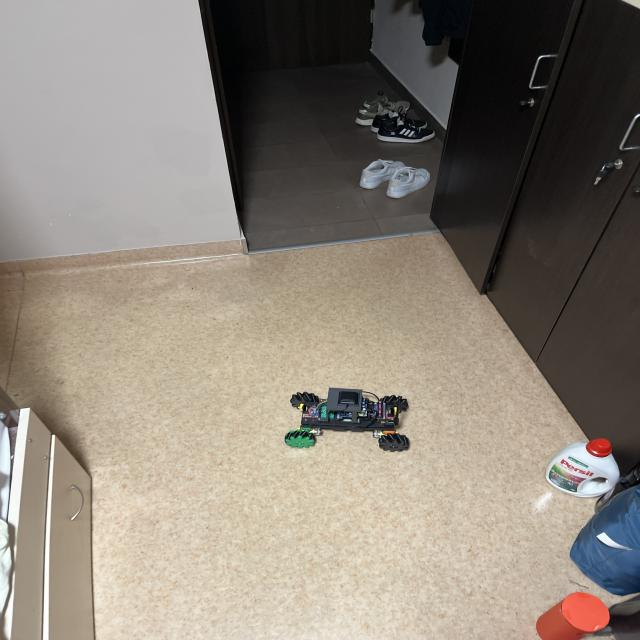robot: (284, 388, 409, 451)
